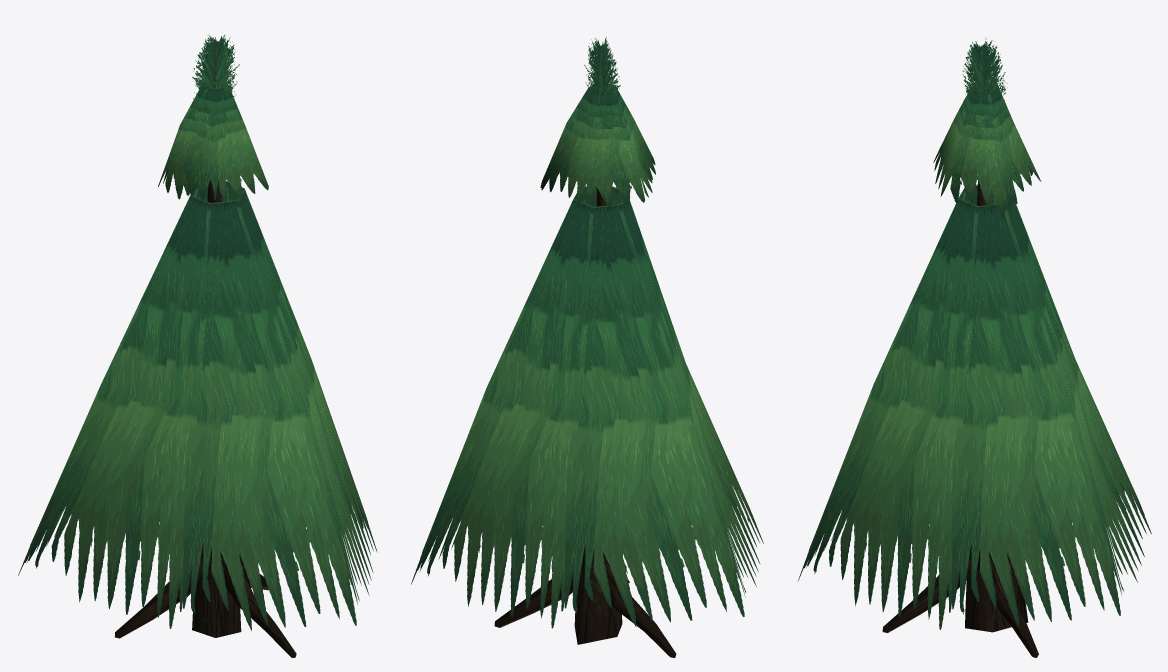
Rendered from tree_pine_b_lod1.glb.
The picture shows the model from 3 angles, left to right: view 1: azimuth 30°, elevation 25°; view 2: azimuth 150°, elevation 25°; view 3: azimuth 270°, elevation 25°; orthographic projection. The views are drawn at different scales.
Parts seen in each view (by area): view 1: tree_pine_b_lod1; view 2: tree_pine_b_lod1; view 3: tree_pine_b_lod1.
Boxes of the visible parts, x1,y1,x2,y2 form: tree_pine_b_lod1: [18, 34, 377, 657]; tree_pine_b_lod1: [411, 37, 763, 657]; tree_pine_b_lod1: [797, 37, 1151, 657].
Bounding box in the file's own units: 2.55 × 4.61 × 2.54.
2 materials, 2 textured.
